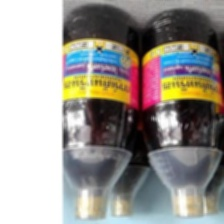insecticide: (135, 4, 224, 222), (57, 2, 142, 221), (89, 56, 154, 219), (169, 43, 223, 217)
